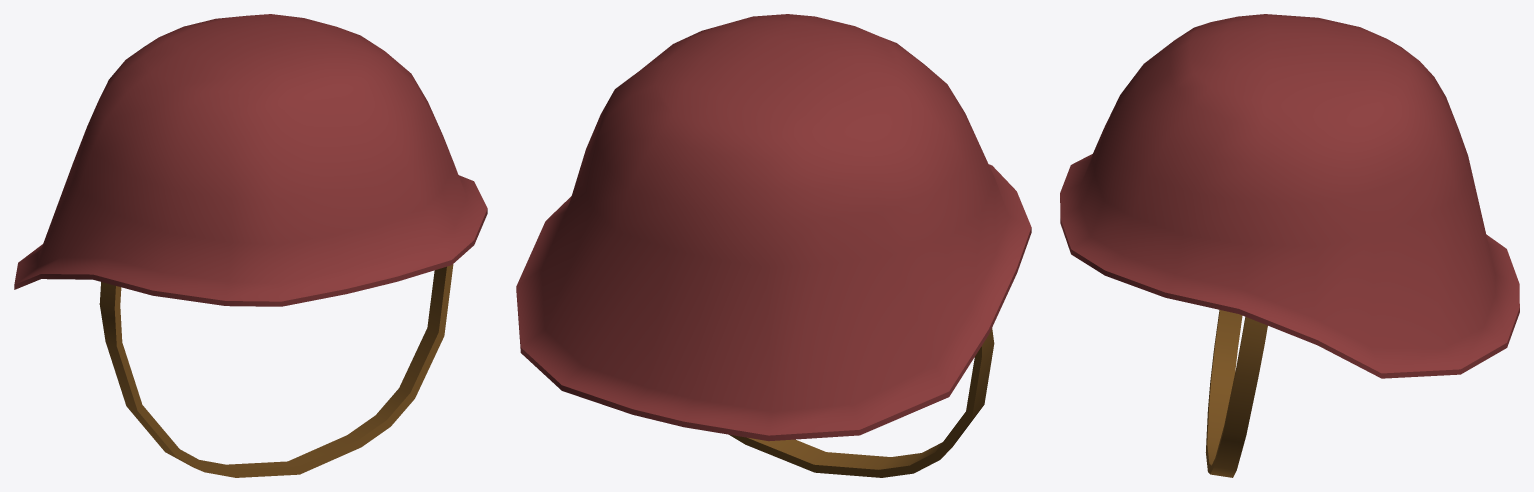
File: Hat_119_03.fbx
3 views of the same model, side by side, from view 1: azimuth 30°, elevation 25°; view 2: azimuth 150°, elevation 25°; view 3: azimuth 270°, elevation 25° (orthographic). The views are drawn at different scales.
Parts seen in each view (by area): view 1: Hat_119_03; view 2: Hat_119_03; view 3: Hat_119_03.
Part boxes in pixels (box(x1,y1,x2,y2)): Hat_119_03: box(14, 14, 487, 477); Hat_119_03: box(516, 14, 1031, 477); Hat_119_03: box(1060, 14, 1519, 477).
Size of the model in its own units: 46.35 by 44.65 by 44.81.
